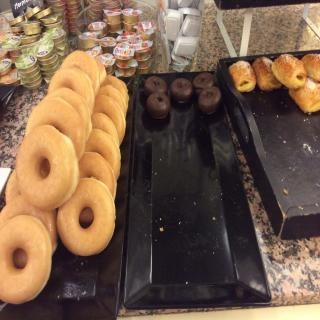Doughnut: (0, 50, 128, 306), (6, 124, 78, 213), (143, 92, 171, 120), (197, 86, 221, 115), (171, 80, 192, 106), (143, 75, 167, 95), (193, 73, 214, 95)
